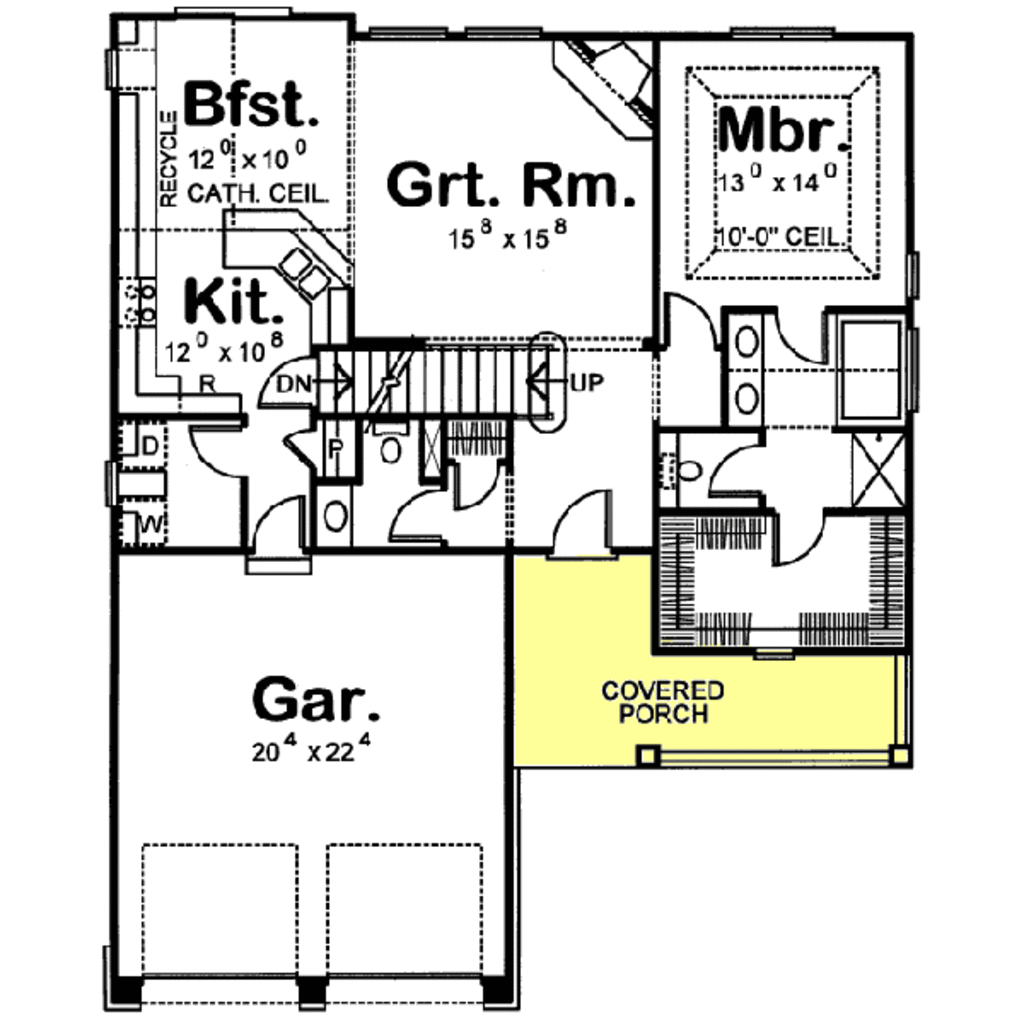door: (236, 487, 322, 583), (541, 485, 627, 561), (247, 339, 318, 407), (445, 453, 513, 515), (656, 291, 725, 352), (708, 433, 766, 503), (775, 304, 836, 368), (768, 508, 835, 565), (383, 490, 449, 546), (186, 421, 251, 475), (279, 414, 315, 478)
large_sink: (652, 448, 708, 498), (367, 421, 413, 472)
small_sink: (727, 312, 763, 423), (314, 486, 351, 547)
stairs: (317, 340, 583, 481)
tub: (842, 311, 906, 431)
twin_sink: (273, 228, 339, 312)
window: (455, 15, 556, 54), (722, 19, 838, 46), (364, 20, 449, 50), (903, 244, 932, 300)
